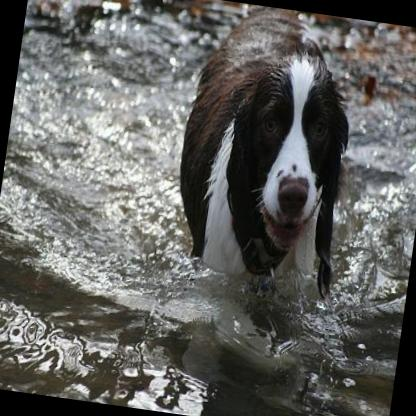English_springer: (164, 0, 367, 290)
